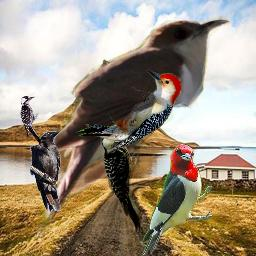Crow: (30, 130, 61, 212)
Cuckoo: (37, 15, 230, 245)
Woodpecker: (76, 70, 181, 155), (139, 143, 212, 255), (96, 121, 151, 242), (20, 96, 41, 145)
